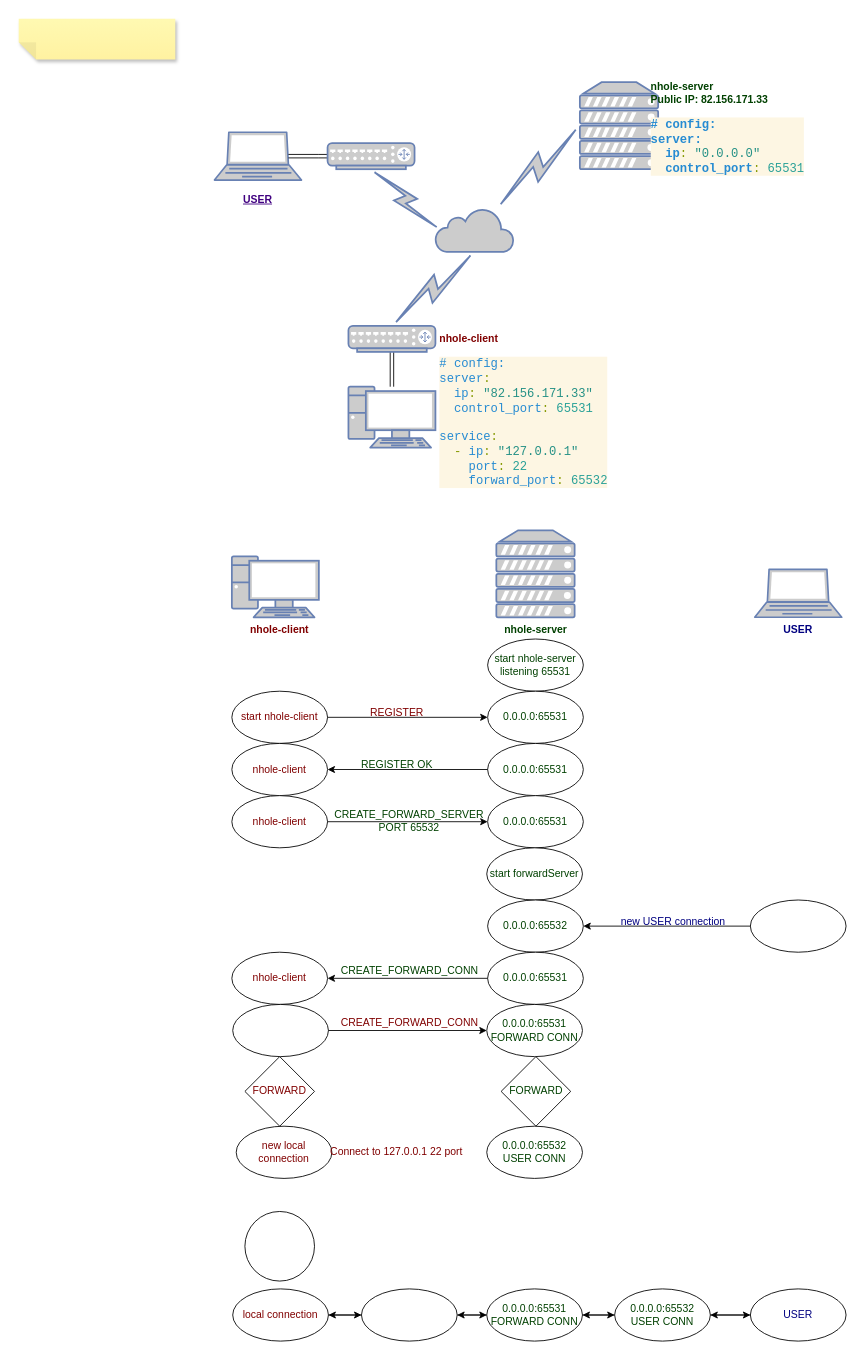
Some shapes in this 861 by 1356 pixel diagram are drawn without their labels. Each missing label, with the centre of its shape:
"end:" belongs at pixel 279 1246.
"forward connection" belongs at pixel 409 1314.
"new forward connection" belongs at pixel 280 1030.
"new USER" belongs at pixel 798 925.
"nhole Simple Working Diagram" belongs at pixel 97 40.
